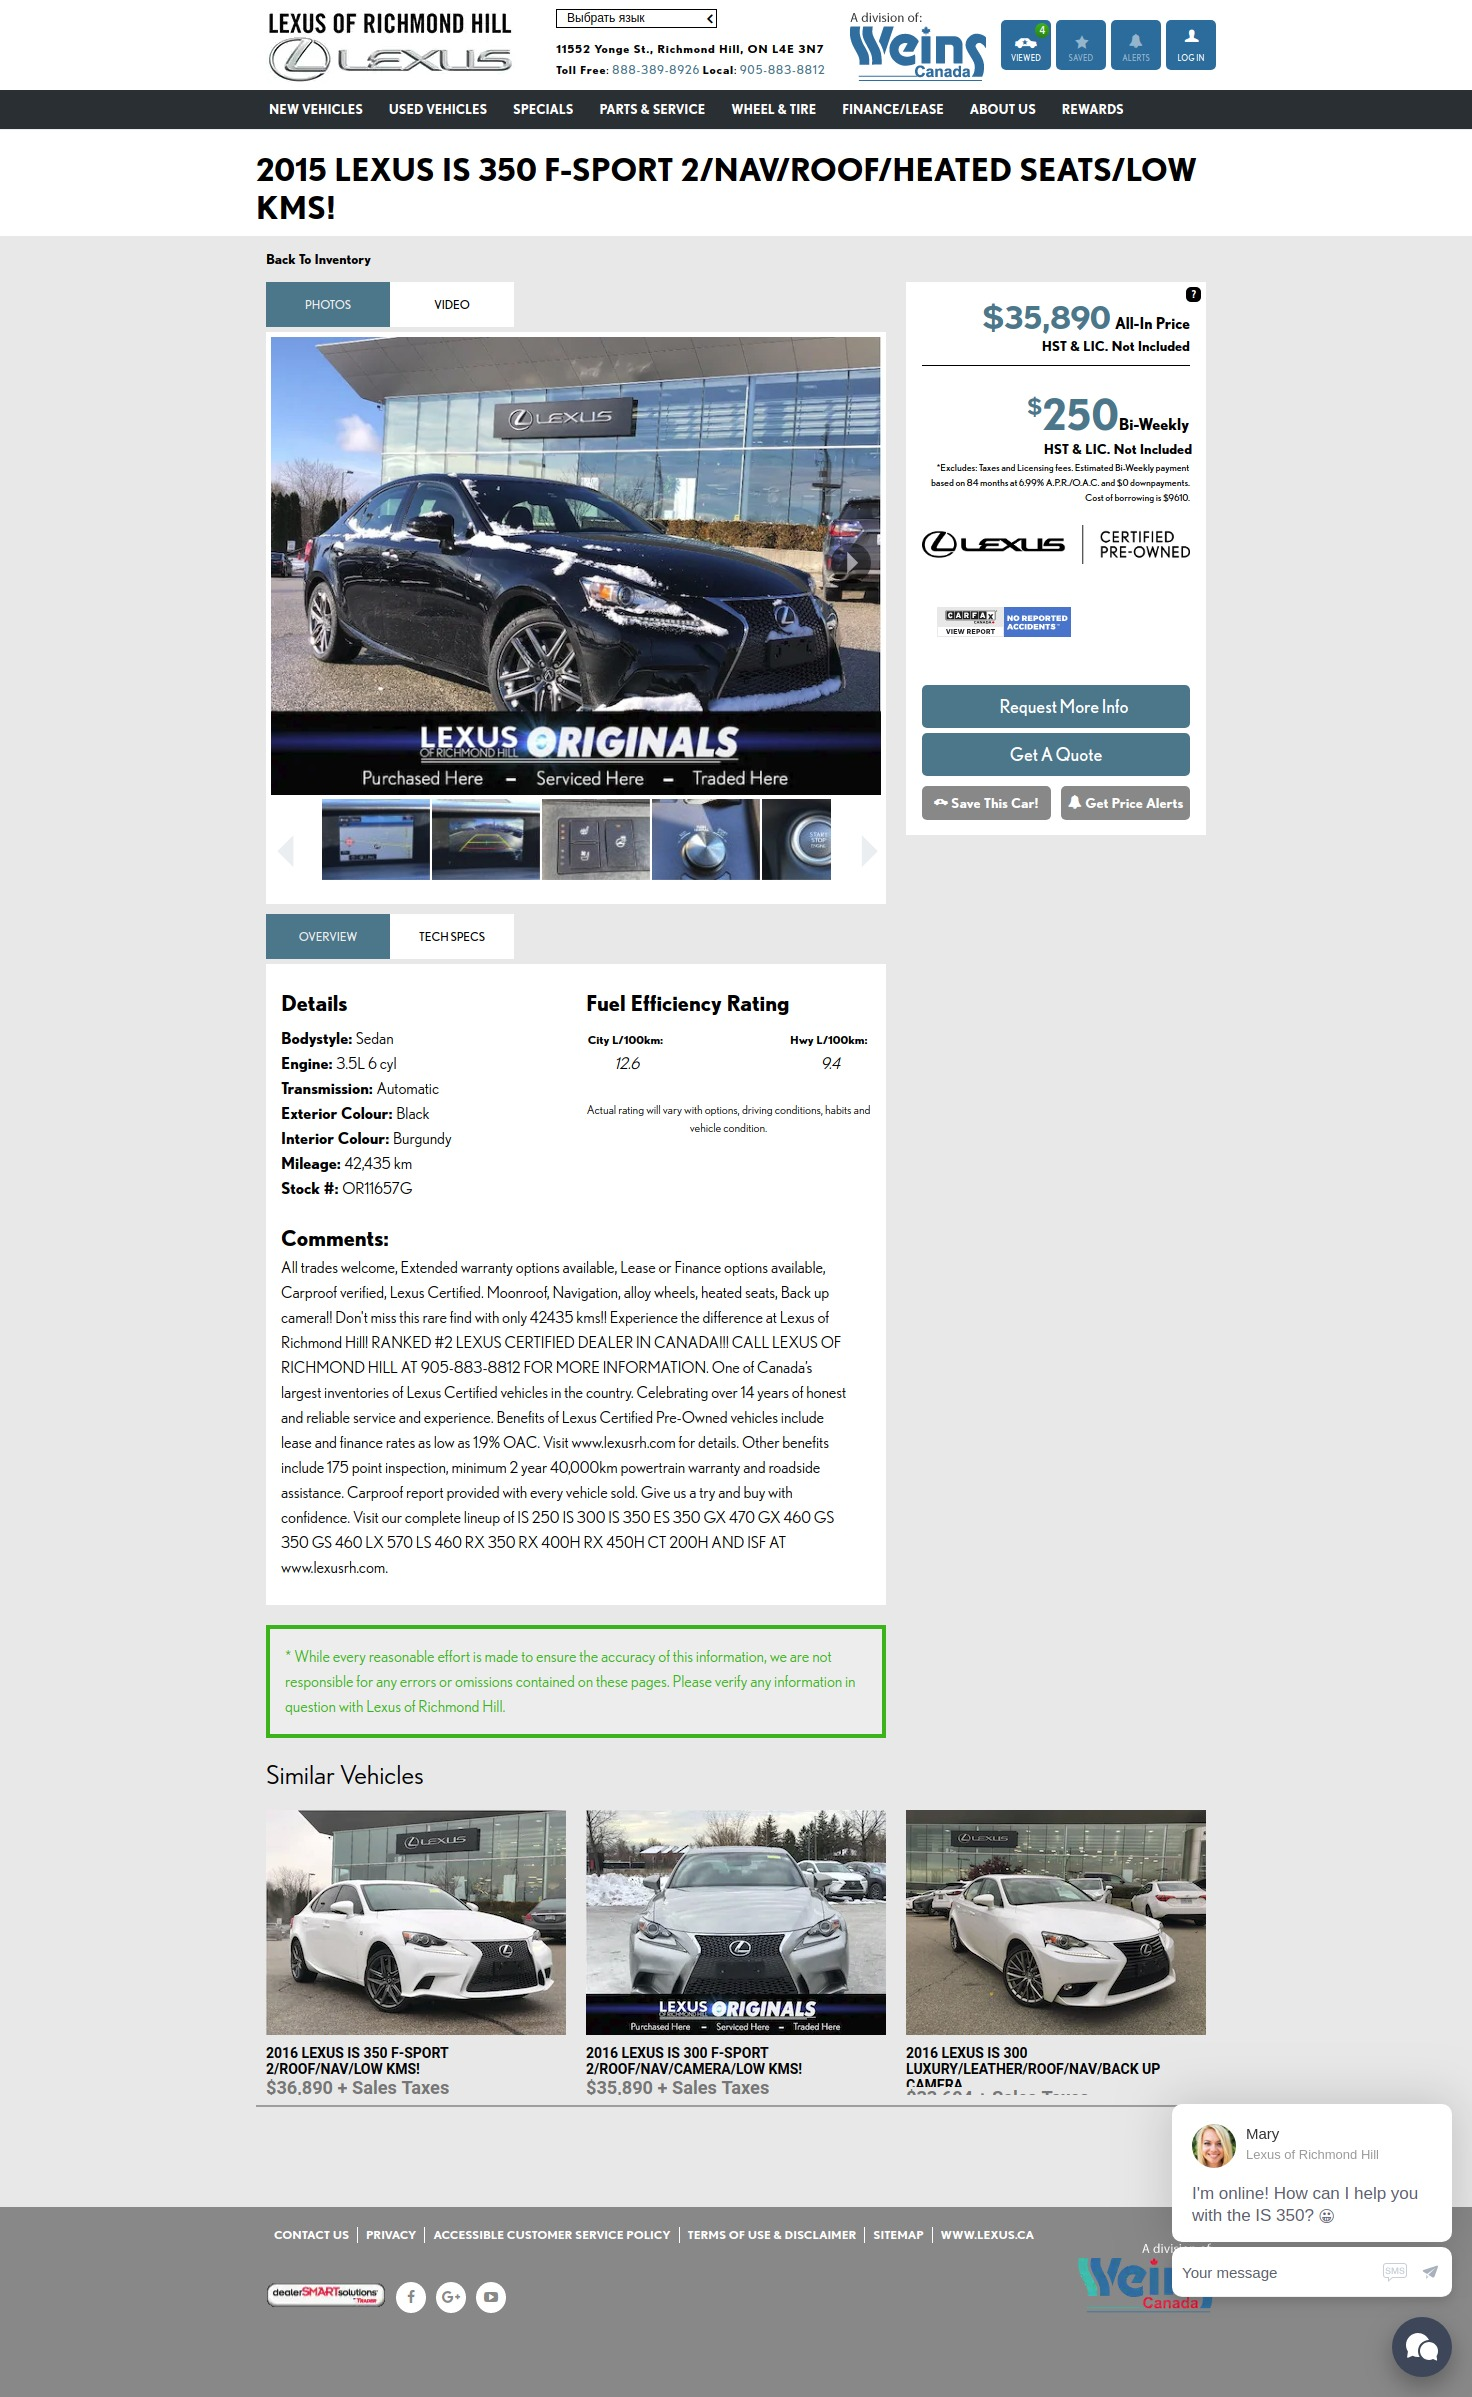car: (863, 836, 880, 870)
